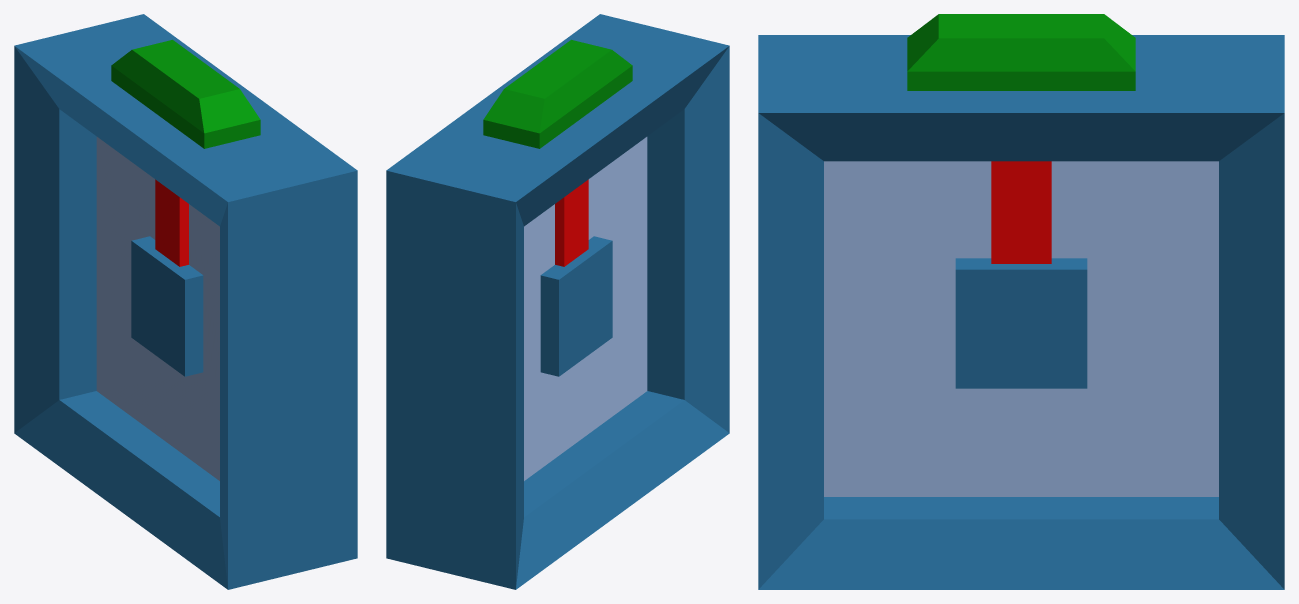
File: Timer.fbx
The picture shows the model from 3 angles, left to right: view 1: azimuth 30°, elevation 25°; view 2: azimuth 150°, elevation 25°; view 3: azimuth 270°, elevation 25°; orthographic projection. The views are drawn at different scales.
Parts seen in each view (by area): view 1: Cube, Cube.002, Cube.001; view 2: Cube, Cube.002, Cube.001; view 3: Cube, Cube.002, Cube.001.
Boxes of the visible parts, x1=… form: Cube: x1=14, y1=14, x2=357, y2=589; Cube.002: x1=155, y1=179, x2=188, y2=265; Cube.001: x1=164, y1=210, x2=188, y2=266; Cube: x1=386, y1=14, x2=729, y2=589; Cube.002: x1=555, y1=179, x2=588, y2=266; Cube.001: x1=555, y1=202, x2=588, y2=266; Cube: x1=758, y1=14, x2=1284, y2=589; Cube.002: x1=991, y1=161, x2=1051, y2=263; Cube.001: x1=991, y1=204, x2=1051, y2=263.
Bounding box in the file's own units: 70 × 220 × 200.
